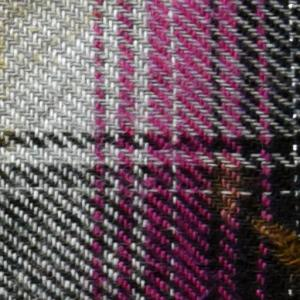Oil Stain: (205, 157, 300, 277)
Stain: (1, 1, 101, 153)
